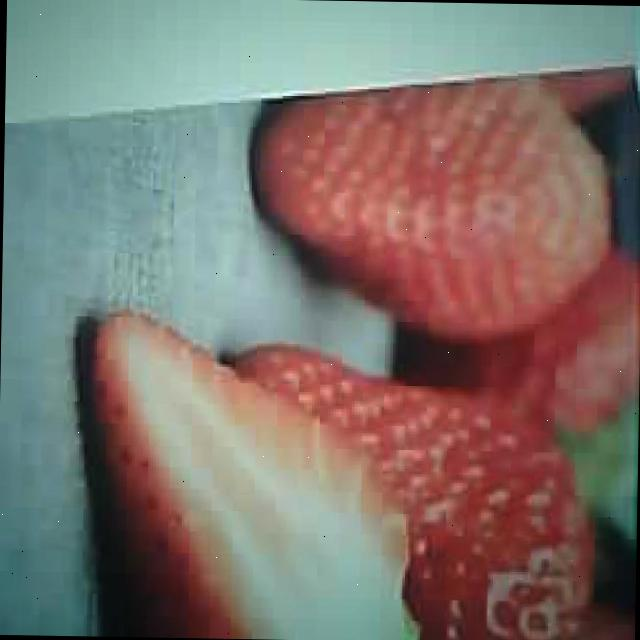strawberry: (251, 70, 612, 346)
